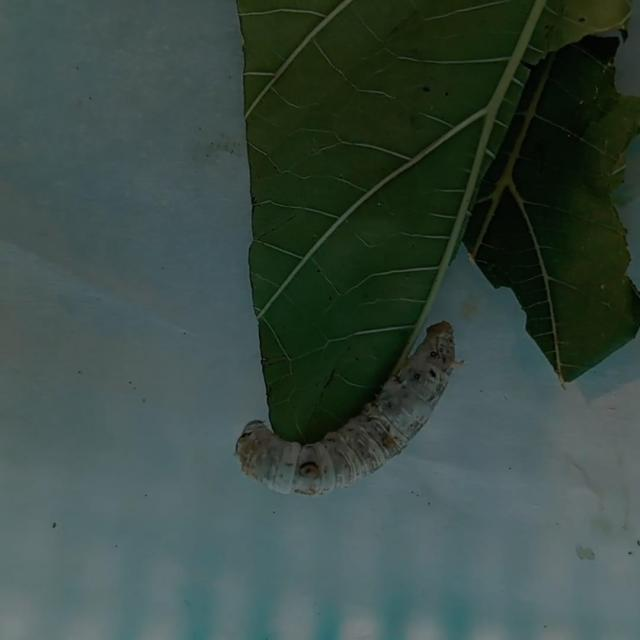Grasserie: (224, 314, 463, 514)
